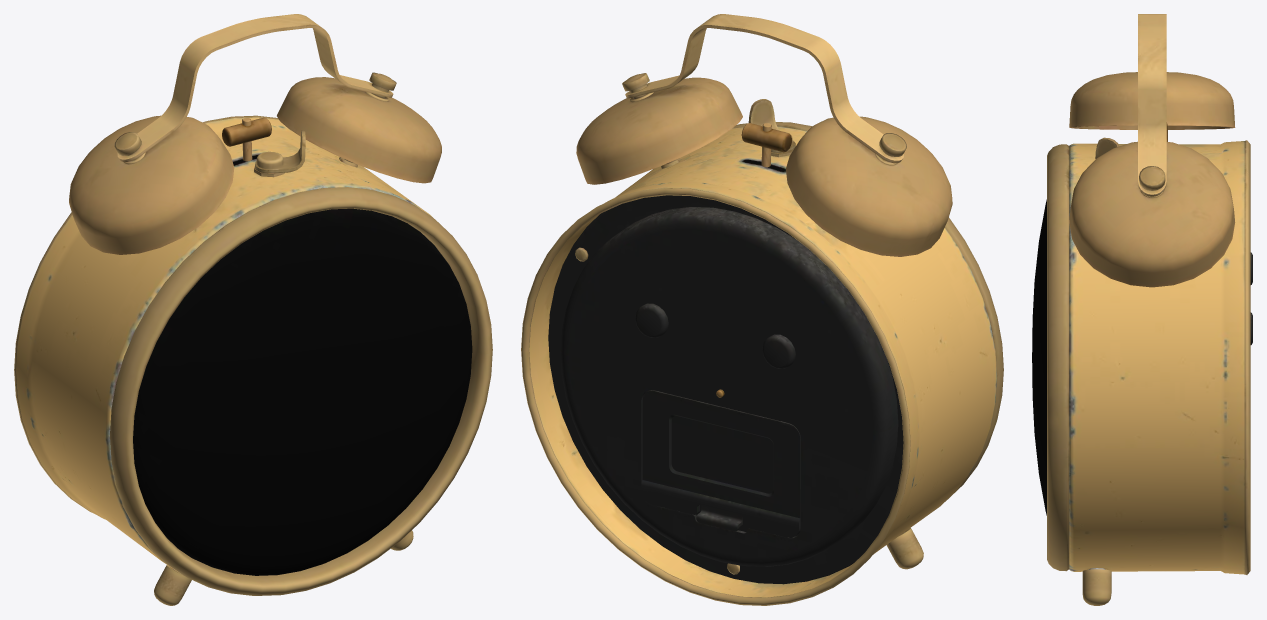
File: alarm_clock_01.gltf
The picture shows the model from 3 angles, left to right: view 1: azimuth 30°, elevation 25°; view 2: azimuth 150°, elevation 25°; view 3: azimuth 270°, elevation 25°; orthographic projection. The views are drawn at different scales.
Visible parts, largest first — view 1: alarm_clock_01; view 2: alarm_clock_01; view 3: alarm_clock_01.
Boxes of the visible parts, x1,y1,x2,y2 form: alarm_clock_01: [14, 14, 492, 605]; alarm_clock_01: [521, 14, 1003, 605]; alarm_clock_01: [1032, 14, 1252, 605].
Size of the model in its own units: 0.1317 by 0.1742 by 0.0667.
2 materials, 2 textured.
